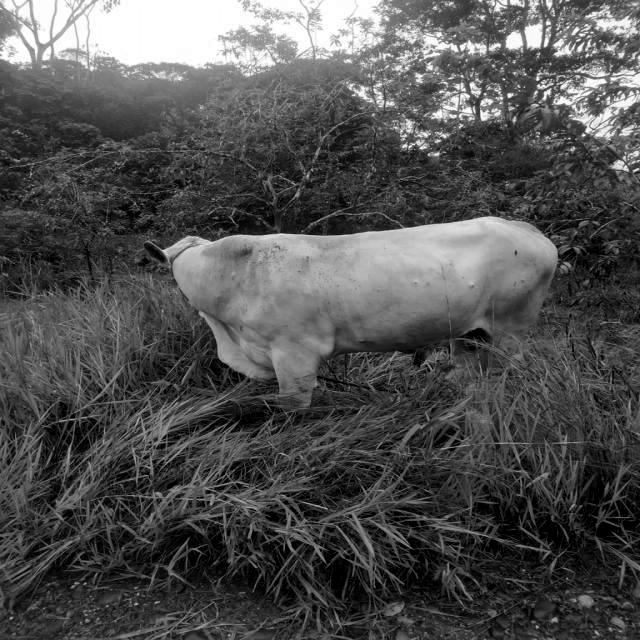COW: (145, 216, 555, 405)
